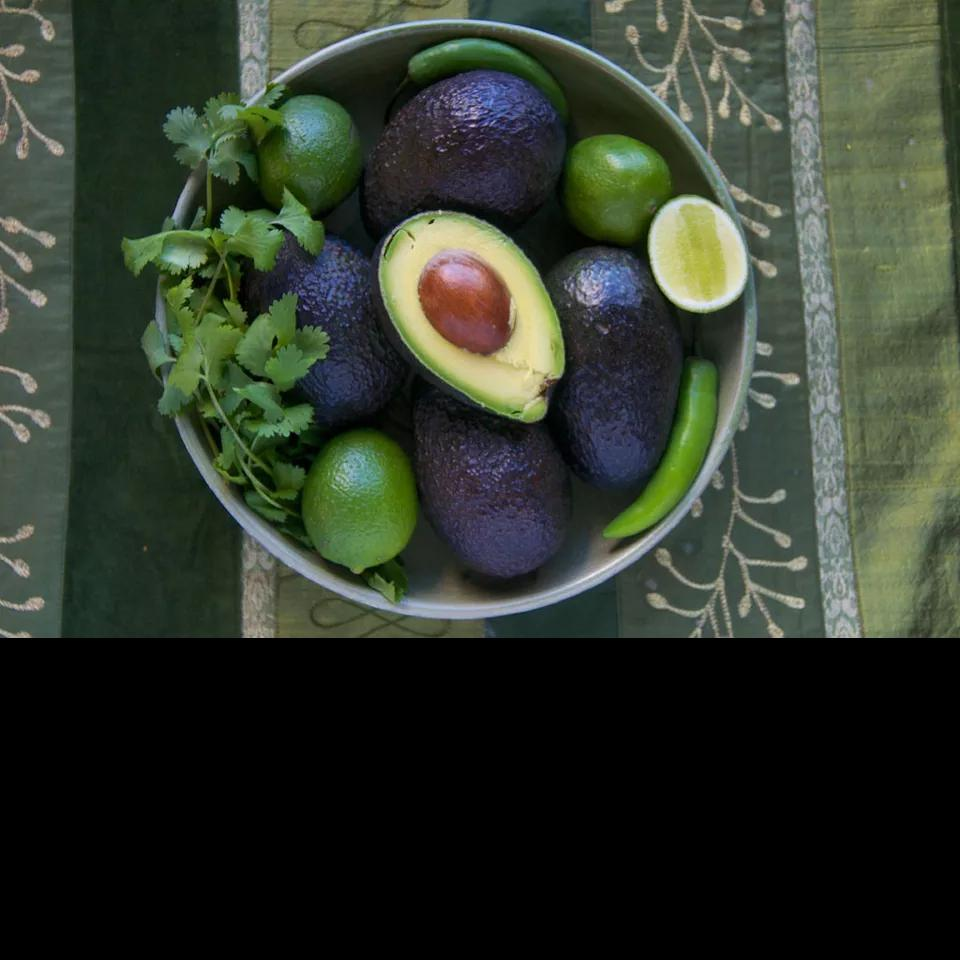ripe: (359, 68, 569, 239), (545, 247, 683, 500), (242, 234, 415, 434), (408, 388, 576, 582)
